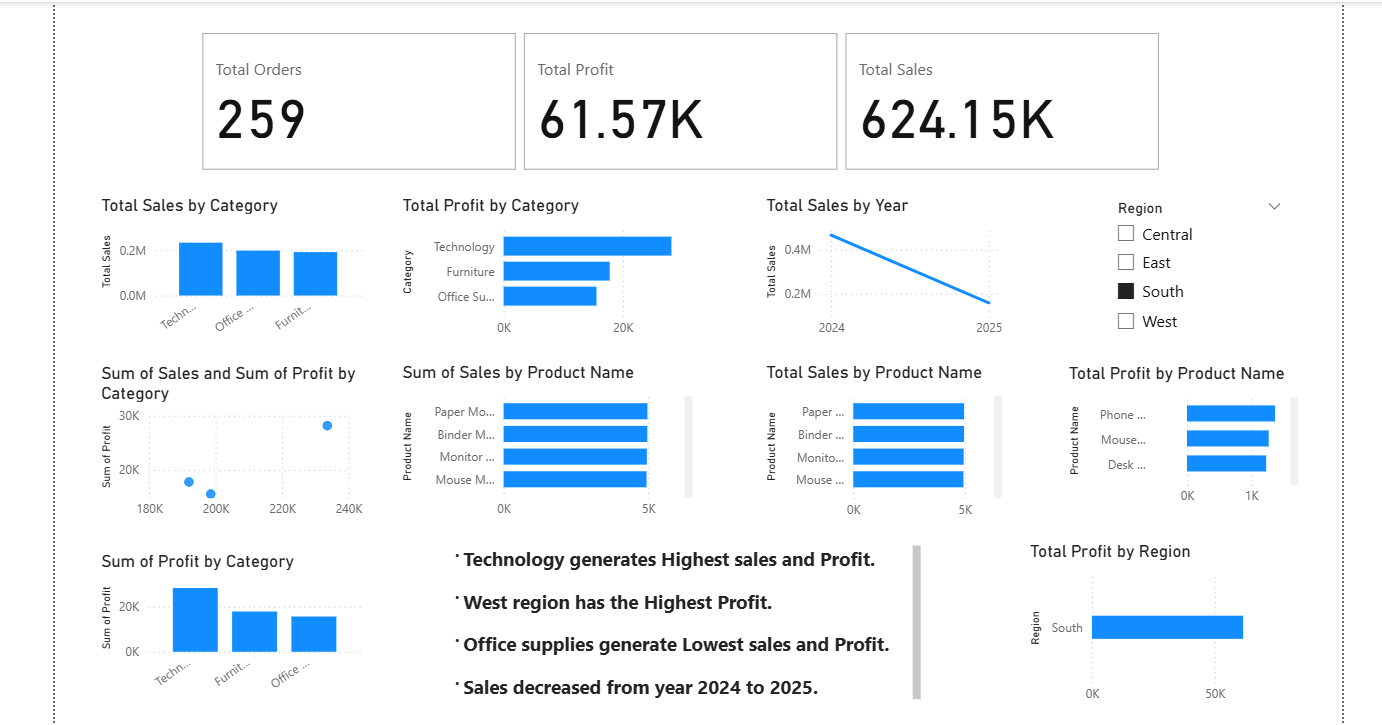

The dashboard page shown, as its layout file describes it:
{"tool":"powerbi","page":{"name":"Page 2","canvas":[1280,720],"ordinal":1},"visuals":[{"type":"cardVisual","fields":{"Data":["Ecommerce_Data.Total Orders","Ecommerce_Data.Total Profit","Ecommerce_Data.Total Sales"]},"box":[142.2,25.6,962.8,146.5],"z":0},{"type":"clusteredColumnChart","fields":{"Category":["Ecommerce_Data.Category"],"Y":["Ecommerce_Data.Total Sales"]},"box":[41.2,192,270.2,150.8],"z":1000},{"type":"clusteredBarChart","fields":{"Category":["Ecommerce_Data.Category"],"Y":["Ecommerce_Data.Total Profit"]},"box":[341.3,192,298.7,150.8],"z":2000},{"type":"lineChart","fields":{"Y":["Ecommerce_Data.Total Sales"],"Category":["Ecommerce_Data.Order Date.Variation.Date Hierarchy.Year","Ecommerce_Data.Order Date.Variation.Date Hierarchy.Quarter","Ecommerce_Data.Order Date.Variation.Date Hierarchy.Month","Ecommerce_Data.Order Date.Variation.Date Hierarchy.Day"]},"box":[702.6,192,244.6,150.8],"z":3000},{"type":"scatterChart","fields":{"X":["Sum(Ecommerce_Data.Sales)"],"Y":["Sum(Ecommerce_Data.Profit)"],"Category":["Ecommerce_Data.Category"]},"box":[41.2,359.8,270.2,163.6],"z":4000},{"type":"clusteredBarChart","fields":{"Y":["Sum(Ecommerce_Data.Sales)"],"Category":["Ecommerce_Data.Product Name"]},"box":[341.3,358.4,298.7,165],"z":5000},{"type":"clusteredBarChart","fields":{"Category":["Ecommerce_Data.Product Name"],"Y":["Ecommerce_Data.Total Sales"]},"box":[703,358,245,165],"z":6000},{"type":"clusteredBarChart","fields":{"Category":["Ecommerce_Data.Product Name"],"Y":["Ecommerce_Data.Total Profit"]},"box":[1004.1,359.8,238.9,150.8],"z":7000},{"type":"columnChart","fields":{"Category":["Ecommerce_Data.Category"],"Y":["Sum(Ecommerce_Data.Profit)"]},"box":[41.2,546.1,270.2,150.8],"z":8000},{"type":"slicer","fields":{"Values":["Ecommerce_Data.Region"]},"box":[1045.3,192,187.7,150.8],"z":9000},{"type":"textbox","box":[382.6,536.2,483.6,170.7],"z":10000},{"type":"clusteredBarChart","fields":{"Y":["Ecommerce_Data.Total Profit"],"Category":["Ecommerce_Data.Region"]},"box":[965.7,536.2,277.3,170.7],"z":11000}]}

Visuals, with their boxes on the page's 1280x720 design canvas (x1, y1, x2, y2). These are canvas units, not pixel positions in the 1382x725 screenshot, which may show the page scaled, cropped or inside an application window:
cardVisual - Ecommerce_Data.Total Orders x Ecommerce_Data.Total Profit: 142:26:1105:172
clusteredColumnChart - Ecommerce_Data.Category x Ecommerce_Data.Total Sales: 41:192:311:343
clusteredBarChart - Ecommerce_Data.Category x Ecommerce_Data.Total Profit: 341:192:640:343
lineChart - Ecommerce_Data.Total Sales x Ecommerce_Data.Order Date.Variation.Date Hierarchy.Year: 703:192:947:343
scatterChart - Sum(Ecommerce_Data.Sales) x Sum(Ecommerce_Data.Profit): 41:360:311:523
clusteredBarChart - Sum(Ecommerce_Data.Sales) x Ecommerce_Data.Product Name: 341:358:640:523
clusteredBarChart - Ecommerce_Data.Product Name x Ecommerce_Data.Total Sales: 703:358:948:523
clusteredBarChart - Ecommerce_Data.Product Name x Ecommerce_Data.Total Profit: 1004:360:1243:511
columnChart - Ecommerce_Data.Category x Sum(Ecommerce_Data.Profit): 41:546:311:697
slicer - Ecommerce_Data.Region: 1045:192:1233:343
textbox: 383:536:866:707
clusteredBarChart - Ecommerce_Data.Total Profit x Ecommerce_Data.Region: 966:536:1243:707
